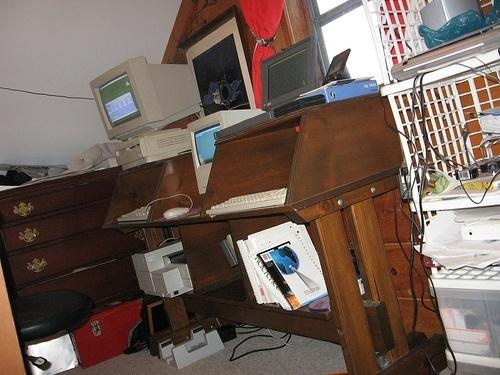tvmonitor: (89, 57, 203, 143)
